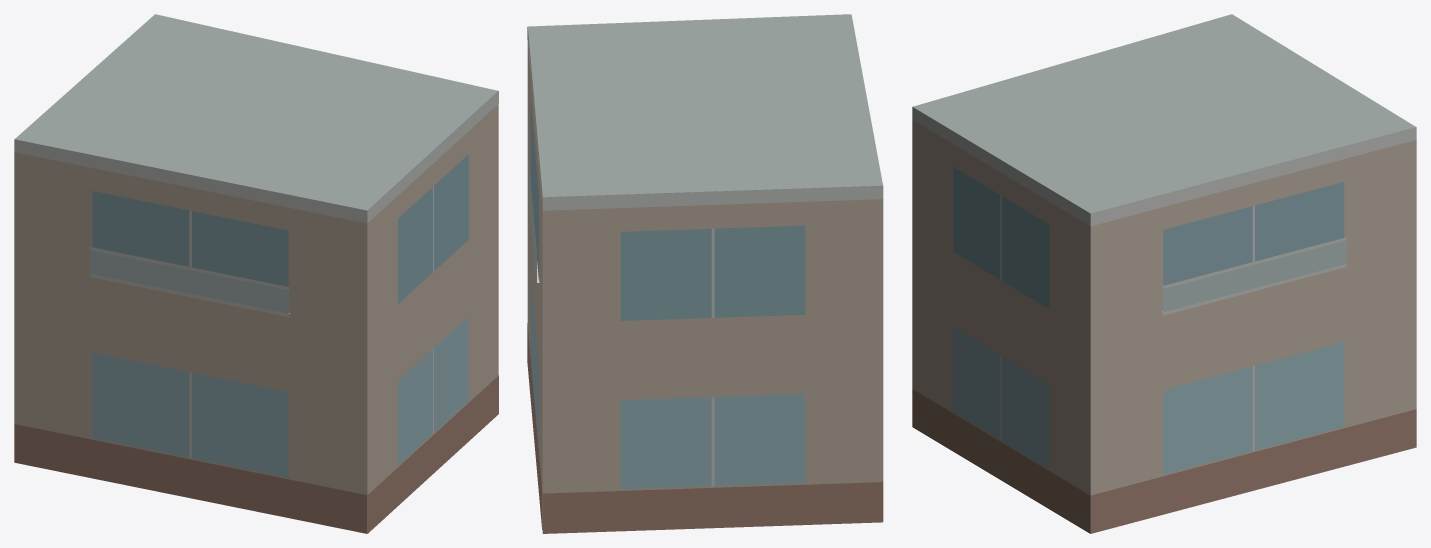
The model's file is survey-upis-32616676.glb.
3 views of the same model, side by side, from view 1: azimuth 30°, elevation 25°; view 2: azimuth 150°, elevation 25°; view 3: azimuth 270°, elevation 25° (orthographic). The views are drawn at different scales.
Parts seen in each view (by area): view 1: survey-upis-32616676.tmp; view 2: survey-upis-32616676.tmp; view 3: survey-upis-32616676.tmp.
Part boxes in pixels (left/top/right/bottom): survey-upis-32616676.tmp: left=14, top=14, right=498, bottom=533; survey-upis-32616676.tmp: left=527, top=14, right=883, bottom=533; survey-upis-32616676.tmp: left=912, top=14, right=1416, bottom=533.
Bounding box in the file's own units: 8.16 × 6.1 × 8.71.
